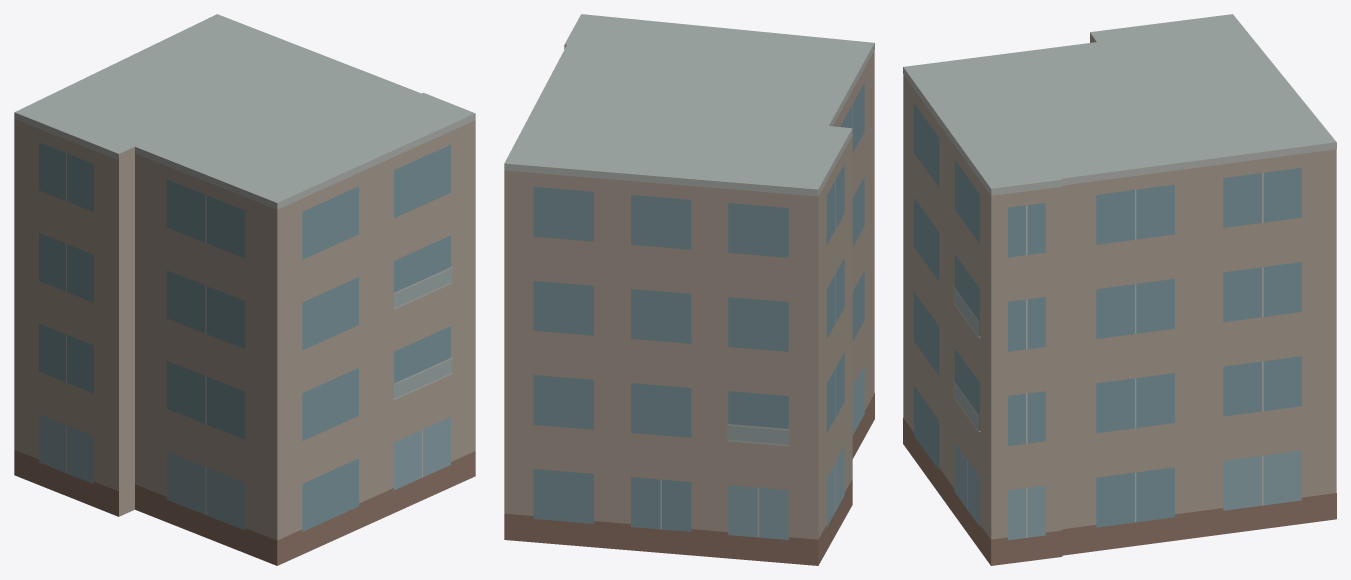
The model's file is survey-upis-32802327.glb.
The picture shows the model from 3 angles, left to right: view 1: azimuth 30°, elevation 25°; view 2: azimuth 150°, elevation 25°; view 3: azimuth 270°, elevation 25°; orthographic projection. The views are drawn at different scales.
Parts seen in each view (by area): view 1: survey-upis-32802327.tmp; view 2: survey-upis-32802327.tmp; view 3: survey-upis-32802327.tmp.
Part boxes in pixels (x1,y1,x2,y2): survey-upis-32802327.tmp: (14, 14, 475, 565); survey-upis-32802327.tmp: (504, 14, 874, 565); survey-upis-32802327.tmp: (903, 14, 1336, 565).
Size of the model in its own units: 13.06 by 13.12 by 13.69.
